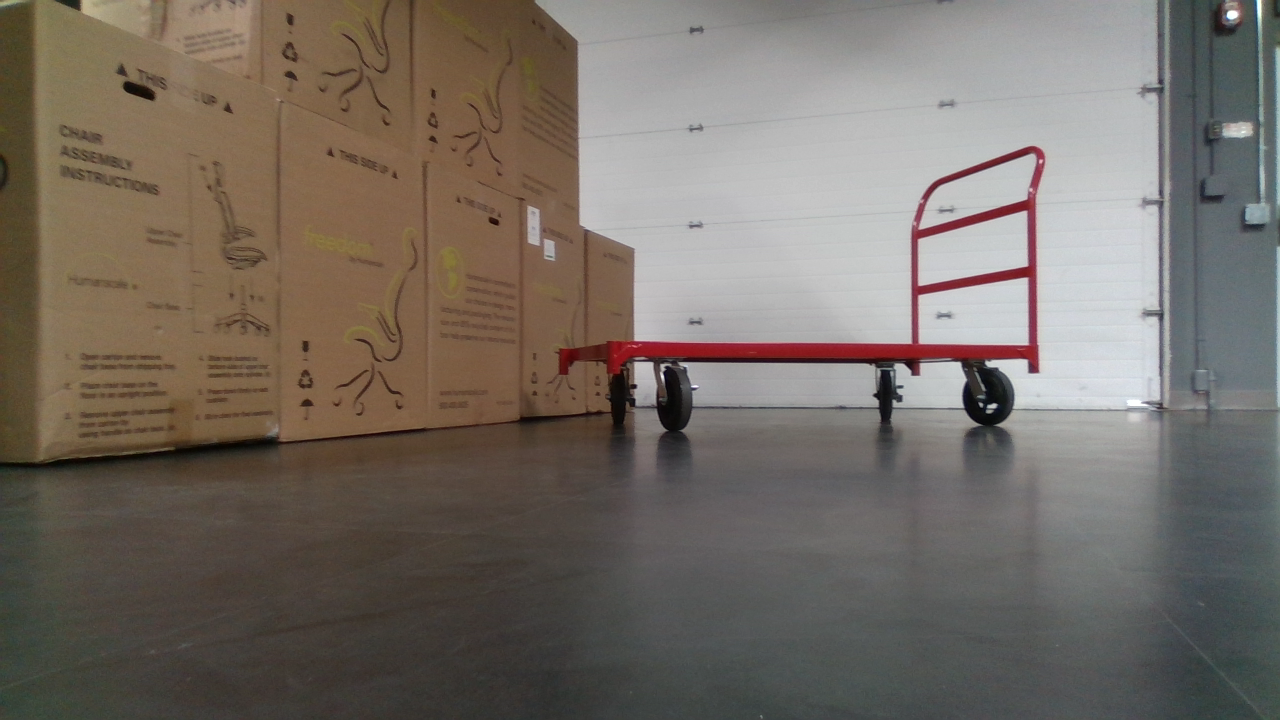Dolly: (554, 134, 1054, 439)
Wheel: (959, 368, 1018, 427), (653, 366, 696, 434), (602, 368, 635, 426), (871, 370, 902, 426)
